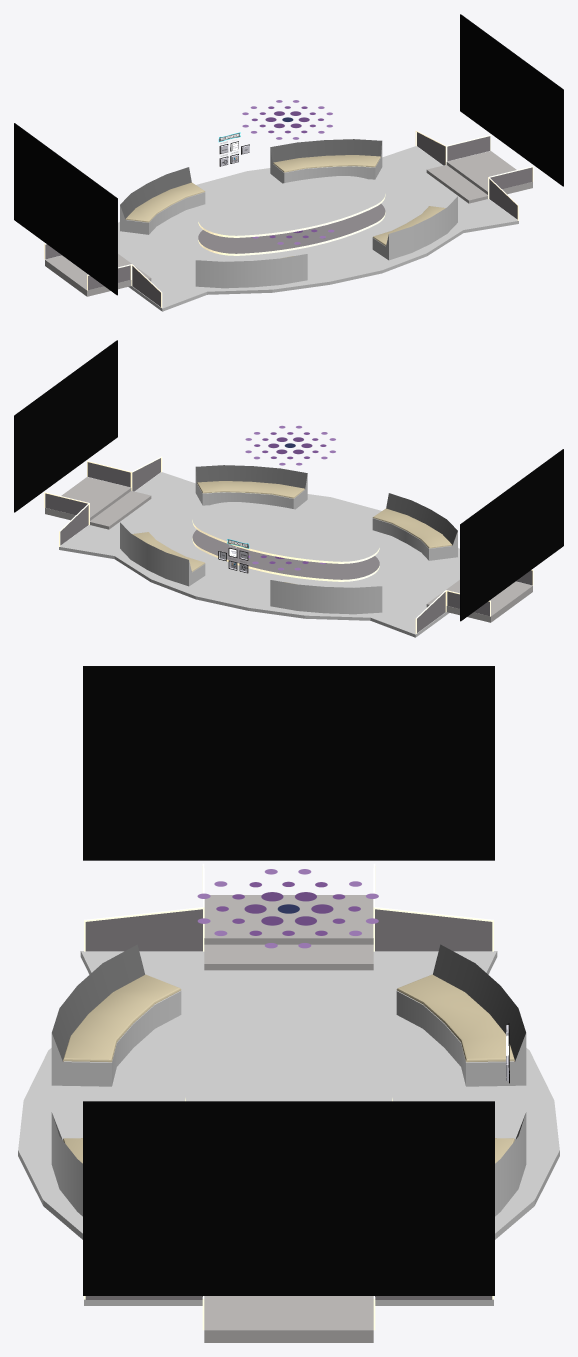
Rendered from P04_CORPORATIVE_MODE.glb.
3 renders of one model, top to bottom at view 1: azimuth 30°, elevation 25°; view 2: azimuth 150°, elevation 25°; view 3: azimuth 270°, elevation 25°, orthographic. The views are drawn at different scales.
Visible parts, largest first — view 1: p04_floor, p04_sofa, p04_tv_001, p04_tv_002.002, p04_tablev2_001, p04_stairs_001.002, p04_glass_floor, p04_railing_001, p04_railing_002, p04_logo_MRCgroup.002, p04_t_t_buttons_01.001, p04_railing_003; view 2: p04_floor, p04_sofa, p04_tv_001, p04_tv_002.002, p04_tablev2_001, p04_stairs_001.002, p04_glass_floor, p04_railing_001, p04_railing_002, p04_logo_MRCgroup.002, p04_t_t_buttons_01.001, p04_railing_003; view 3: p04_tv_002.002, p04_tv_001, p04_floor, p04_sofa, p04_stairs_001.002, p04_tablev2_001, p04_railing_002, p04_logo_MRCgroup.002, p04_railing_003.
Part boxes in pixels (left/top/right/bottom): p04_floor: left=118, top=146, right=518, bottom=311; p04_sofa: left=120, top=139, right=457, bottom=288; p04_tv_001: left=460, top=14, right=563, bottom=186; p04_tv_002.002: left=14, top=123, right=117, bottom=295; p04_tablev2_001: left=198, top=176, right=385, bottom=237; p04_stairs_001.002: left=45, top=151, right=532, bottom=296; p04_glass_floor: left=198, top=204, right=385, bottom=255; p04_railing_001: left=45, top=136, right=532, bottom=290; p04_railing_002: left=132, top=132, right=517, bottom=306; p04_logo_MRCgroup.002: left=242, top=100, right=332, bottom=139; p04_t_t_buttons_01.001: left=219, top=141, right=249, bottom=166; p04_railing_003: left=131, top=130, right=518, bottom=307; p04_floor: left=59, top=472, right=459, bottom=637; p04_sofa: left=120, top=465, right=457, bottom=614; p04_tv_001: left=14, top=340, right=117, bottom=512; p04_tv_002.002: left=460, top=449, right=563, bottom=621; p04_tablev2_001: left=192, top=502, right=379, bottom=563; p04_stairs_001.002: left=45, top=477, right=532, bottom=622; p04_glass_floor: left=192, top=530, right=379, bottom=581; p04_railing_001: left=45, top=462, right=532, bottom=616; p04_railing_002: left=60, top=458, right=445, bottom=632; p04_logo_MRCgroup.002: left=245, top=425, right=335, bottom=465; p04_t_t_buttons_01.001: left=218, top=548, right=248, bottom=573; p04_railing_003: left=59, top=456, right=446, bottom=633; p04_tv_002.002: left=83, top=666, right=494, bottom=860; p04_tv_001: left=83, top=1101, right=494, bottom=1295; p04_floor: left=18, top=951, right=559, bottom=1305; p04_sofa: left=51, top=944, right=526, bottom=1216; p04_stairs_001.002: left=204, top=895, right=373, bottom=1342; p04_tablev2_001: left=185, top=1001, right=392, bottom=1101; p04_railing_002: left=85, top=909, right=492, bottom=1299; p04_logo_MRCgroup.002: left=197, top=869, right=378, bottom=948; p04_railing_003: left=84, top=907, right=493, bottom=1299.
Size of what is drawn, in the model's own units: 28.16 by 7.44 by 14.78.
7 materials, 7 textured.
